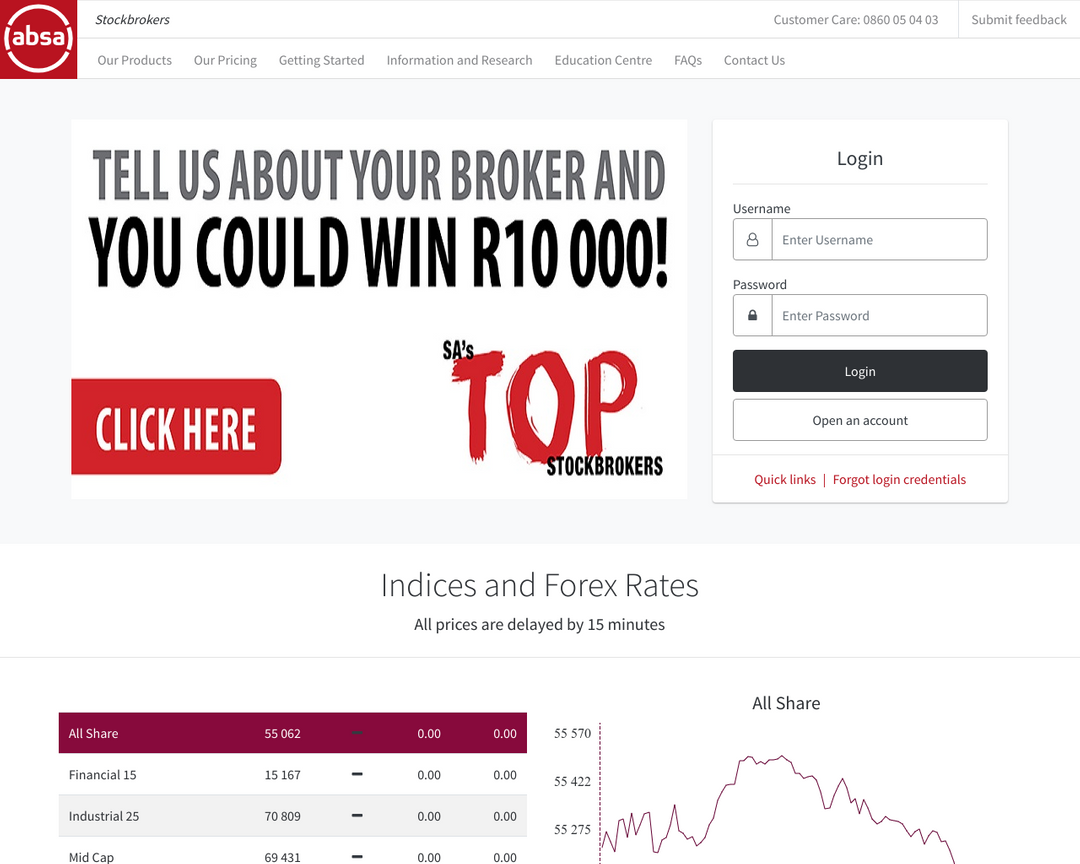ABSA: (1, 2, 76, 76)
